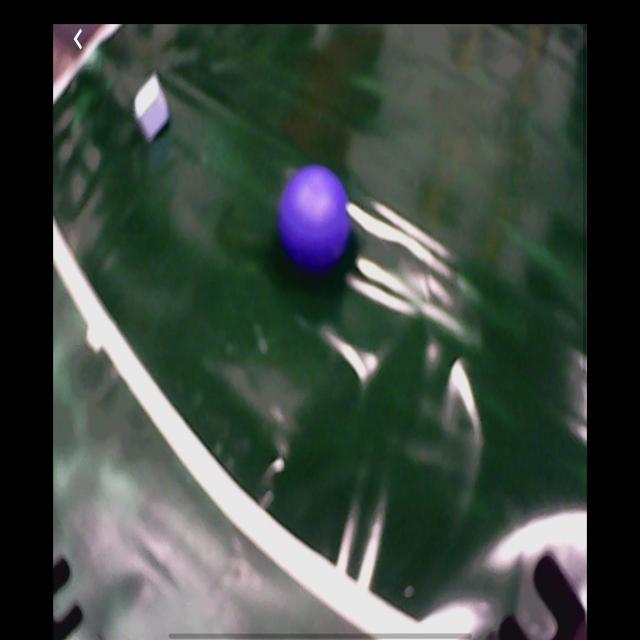ball: (279, 167, 353, 272)
